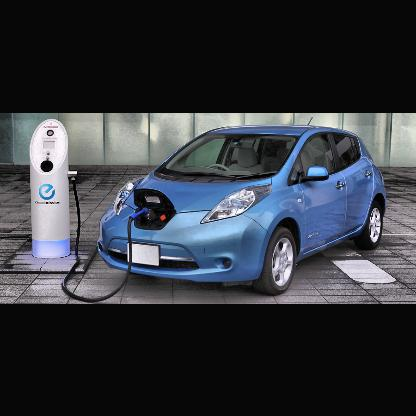Nissan Leaf Hatchback 2012: (99, 127, 389, 296)
